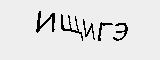Г: (96, 20, 112, 42)
И: (34, 8, 56, 37), (81, 19, 98, 39)
Щ: (59, 12, 83, 41)
Э: (110, 19, 130, 42)
